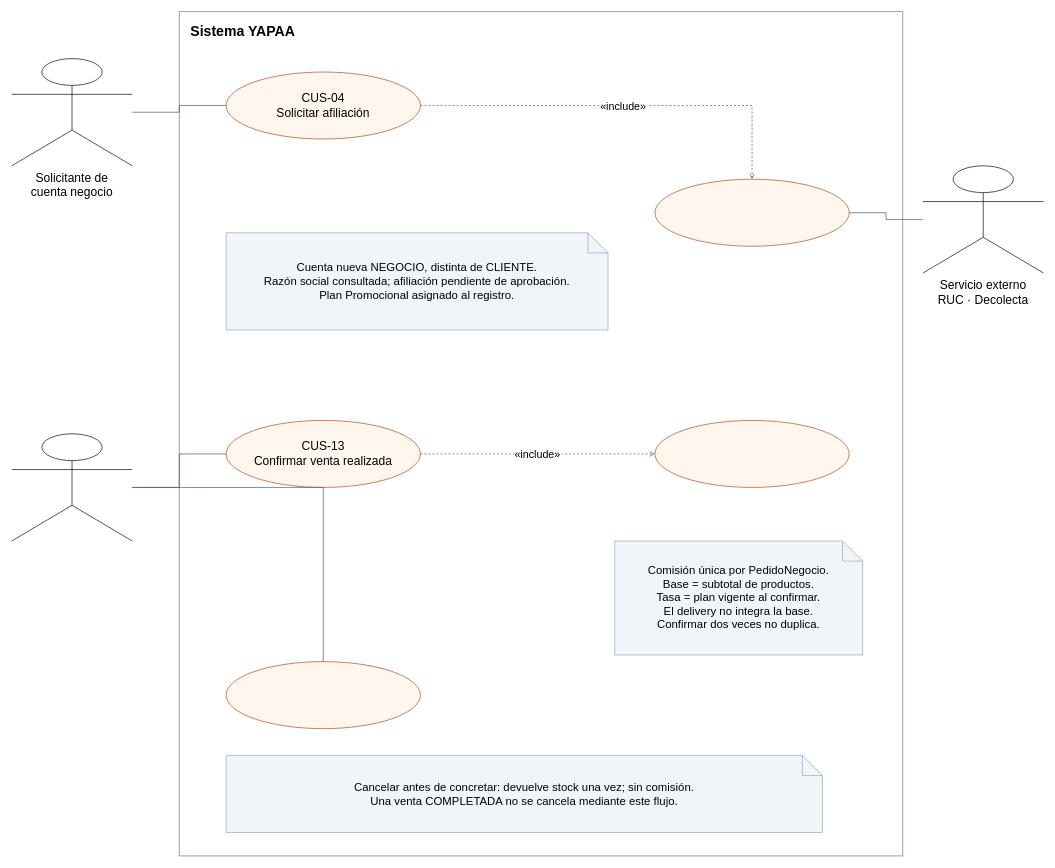
This 1055x868 diagram has some shape labels left out. The centre of each missing label's shape, as x and y in pixels:
CUS-05 Consultar RUC: the point at 751,212
CUS-14 Generar comisión: the point at 751,453
CUS-15 Cancelar pedido: the point at 322,695
Negocio: the point at 71,487
